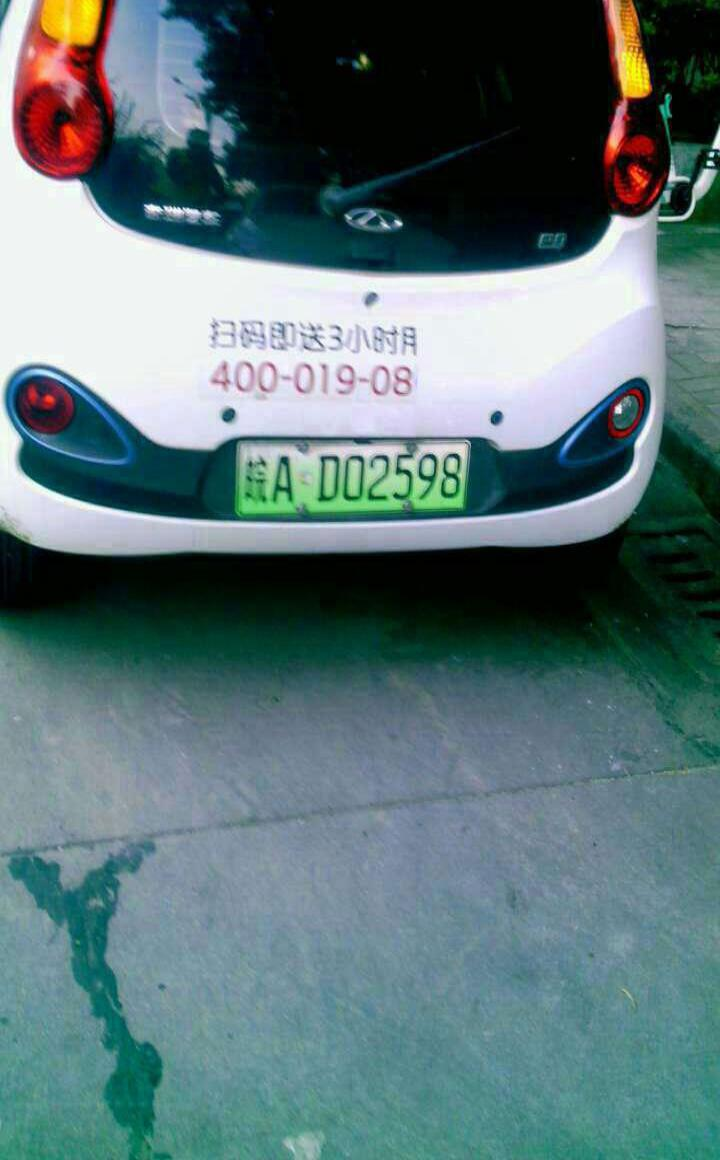car_id: (230, 434, 466, 507)
